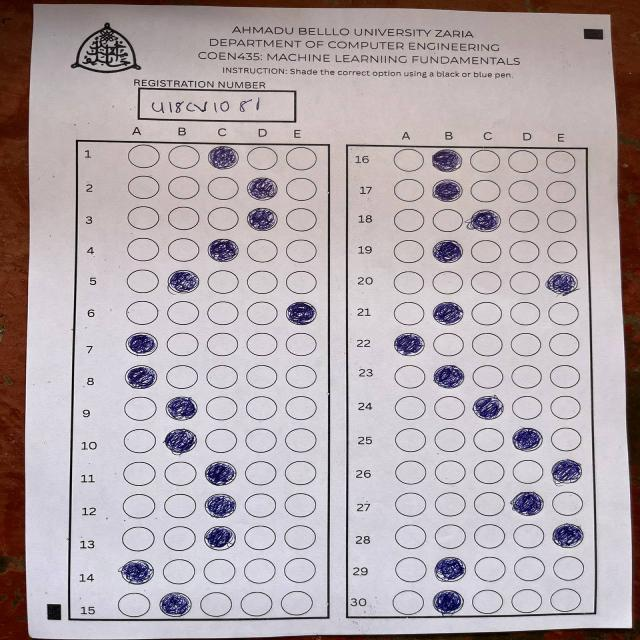bubble: (119, 559, 154, 585), (164, 428, 198, 454), (206, 145, 240, 170), (545, 271, 579, 296), (434, 556, 466, 582), (550, 459, 582, 485), (510, 491, 543, 516), (552, 523, 584, 548), (160, 592, 192, 617), (165, 396, 198, 420), (204, 494, 237, 518), (203, 526, 236, 550), (469, 209, 502, 233), (286, 301, 317, 326), (205, 461, 236, 486), (246, 177, 278, 201), (168, 270, 200, 294), (207, 238, 239, 262), (125, 365, 157, 389), (393, 332, 425, 356), (433, 364, 465, 388), (432, 590, 464, 614), (431, 148, 462, 172), (247, 208, 278, 232), (432, 302, 463, 326), (126, 333, 158, 356), (512, 427, 542, 451), (473, 396, 504, 419), (432, 240, 462, 262), (432, 180, 462, 202)
